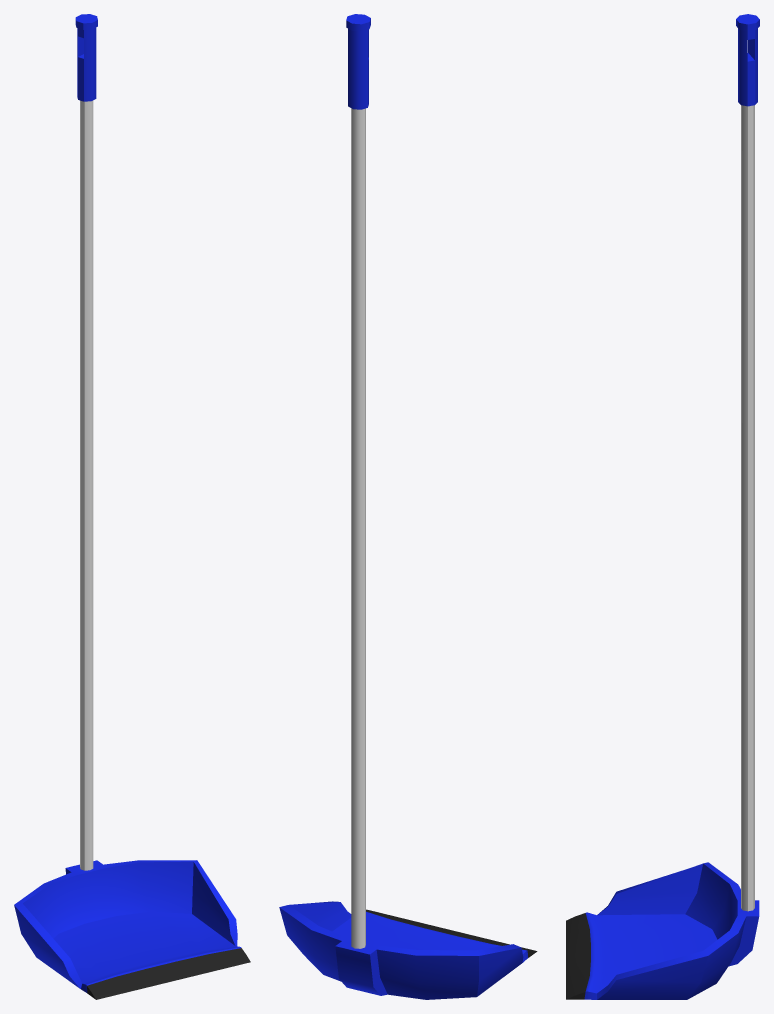
File: Palita.fbx
3 renders of one model, left to right at view 1: azimuth 30°, elevation 25°; view 2: azimuth 150°, elevation 25°; view 3: azimuth 270°, elevation 25°, orthographic. The views are drawn at different scales.
Visible parts, largest first — view 1: Palita; view 2: Palita; view 3: Palita.
Boxes of the visible parts, box(x1,y1,x2,y2) form: Palita: box(14, 14, 250, 999); Palita: box(279, 14, 537, 999); Palita: box(566, 14, 759, 999).
Size of the model in its own units: 0.4829 by 2.26 by 0.4224.
